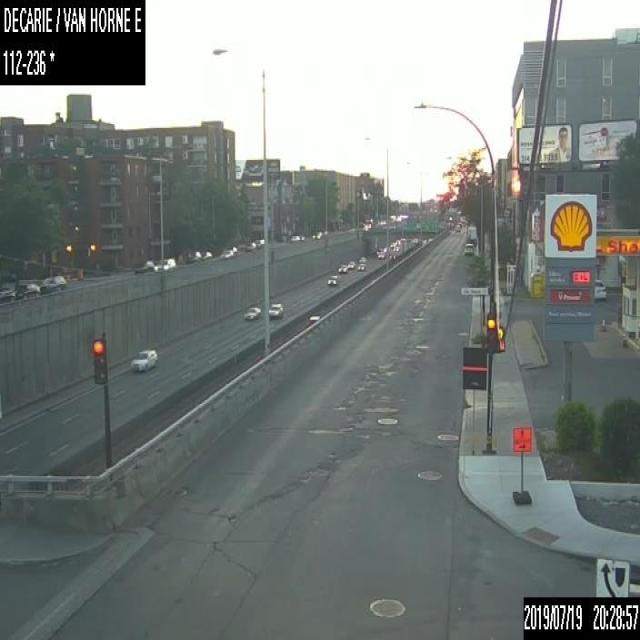construction: (511, 424, 530, 503), (621, 330, 626, 347), (600, 318, 606, 330)
vehicle: (130, 348, 157, 371), (11, 282, 39, 300), (41, 275, 66, 294), (153, 257, 175, 272), (267, 302, 283, 319), (593, 278, 606, 298), (304, 313, 320, 328), (243, 305, 260, 319), (134, 260, 152, 272), (467, 224, 476, 246), (0, 287, 14, 301), (186, 250, 201, 263), (223, 245, 237, 258), (464, 243, 474, 254), (327, 274, 337, 285), (201, 250, 211, 260), (311, 231, 321, 240), (289, 234, 299, 242), (337, 264, 347, 272), (246, 242, 255, 250), (254, 238, 263, 246), (356, 262, 365, 270), (377, 251, 385, 259), (298, 233, 305, 242), (348, 259, 354, 268), (358, 255, 365, 262), (376, 248, 382, 255), (389, 252, 396, 258), (454, 223, 460, 230), (390, 241, 396, 247), (393, 245, 399, 251), (457, 221, 461, 227)
